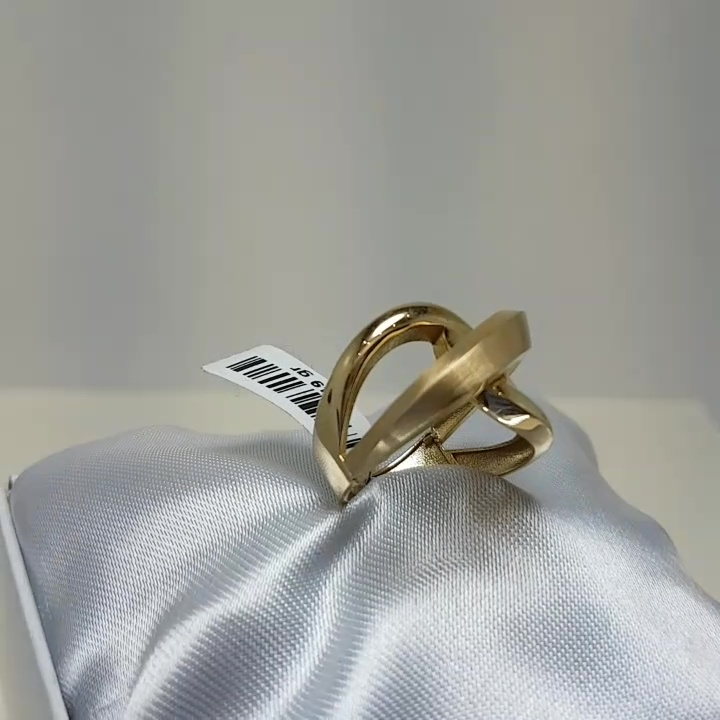Ring 3: (288, 262, 589, 525)
